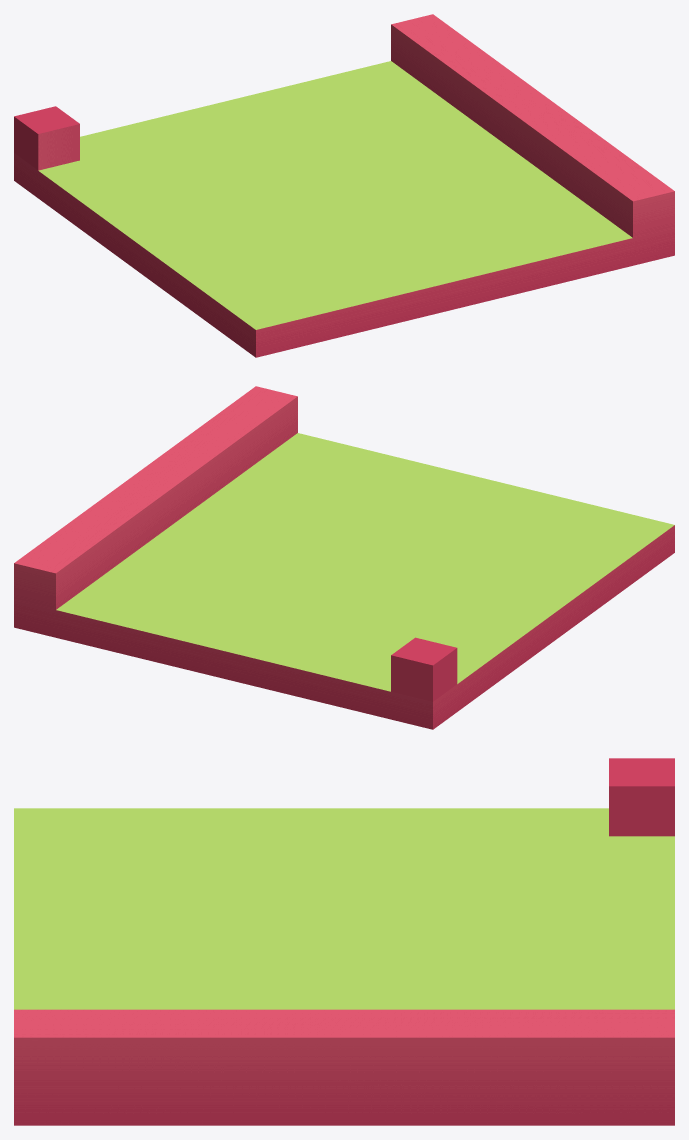
Rendered from walls-to-side-l.glb.
3 renders of one model, top to bottom at view 1: azimuth 30°, elevation 25°; view 2: azimuth 150°, elevation 25°; view 3: azimuth 270°, elevation 25°, orthographic. The views are drawn at different scales.
Parts seen in each view (by area): view 1: side; view 2: side; view 3: side.
Part boxes in pixels (left/top/right/bottom): side: left=14, top=14, right=674, bottom=357; side: left=14, top=386, right=674, bottom=729; side: left=14, top=758, right=674, bottom=1125.
Bounding box in the file's own units: 0.9999 × 0.1467 × 0.9999.
Materials: 1 (1 with a texture image).
